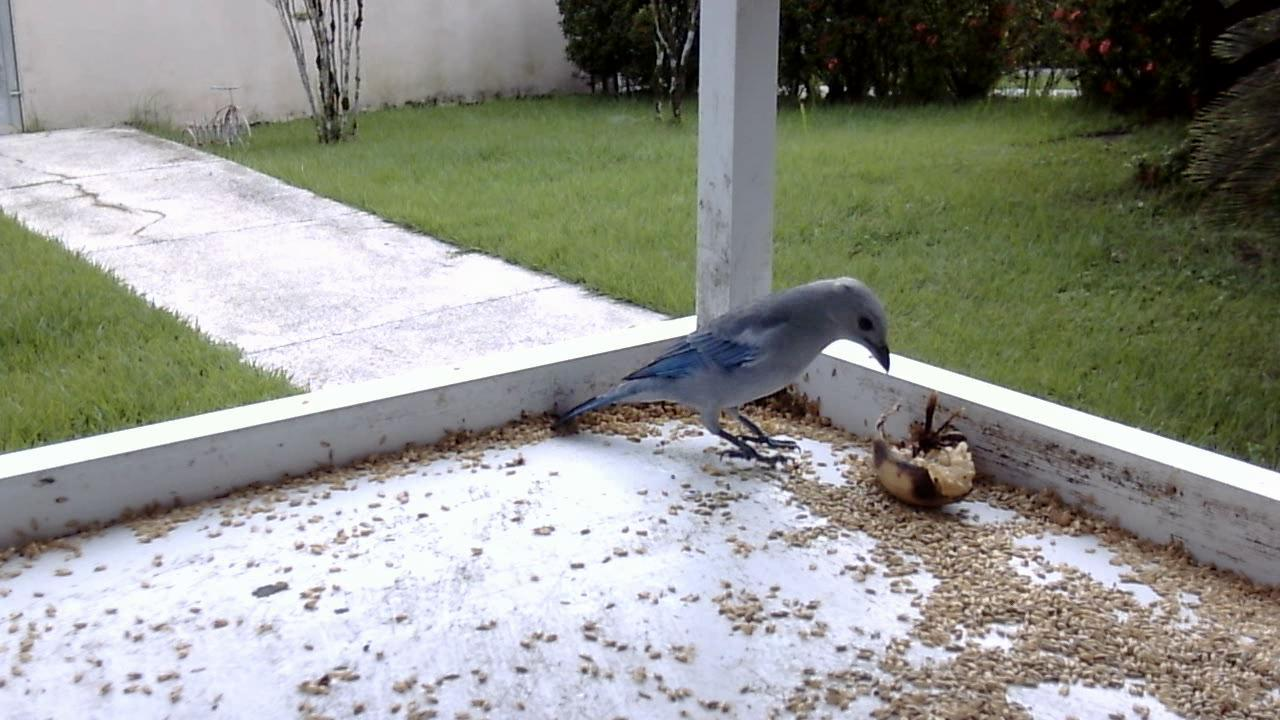sanhaco_da_amazonia: (567, 272, 896, 477)
